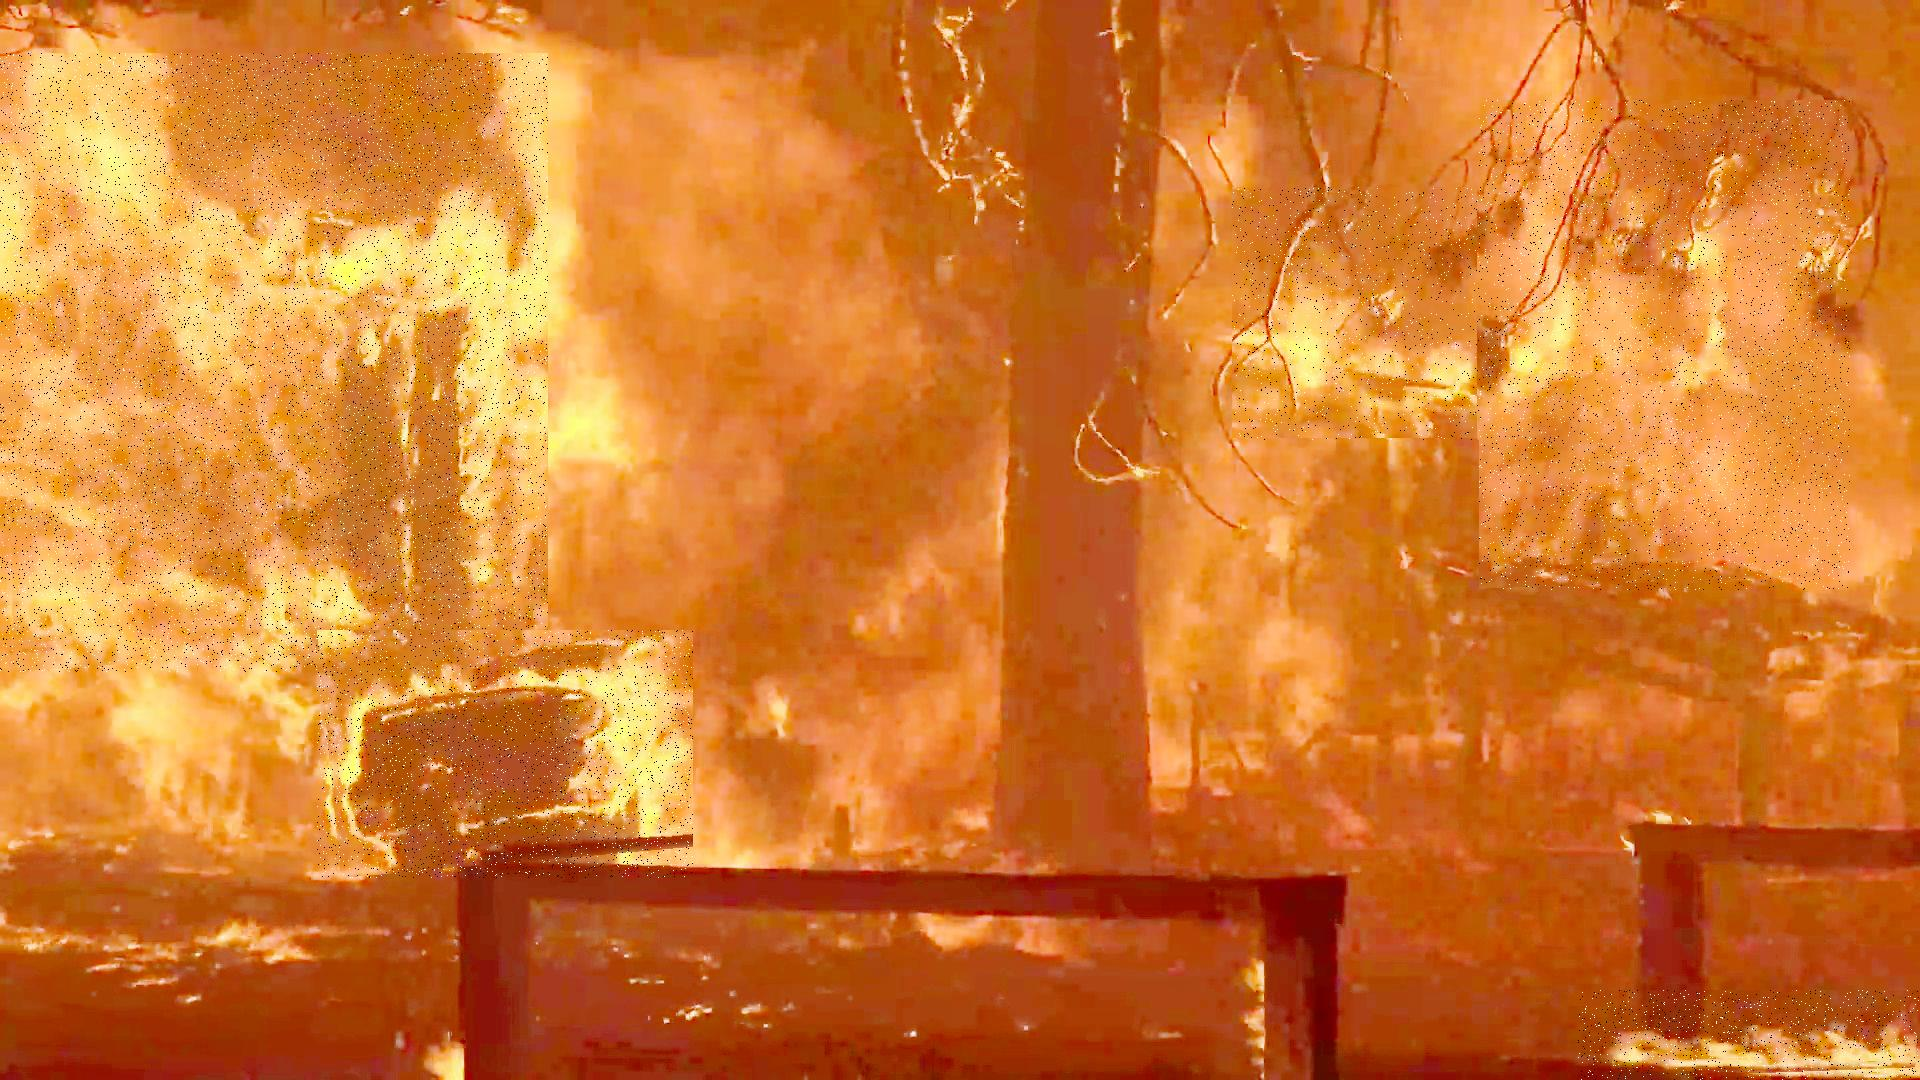fire: (0, 53, 549, 673), (1480, 100, 1850, 591), (1233, 187, 1671, 440), (316, 630, 694, 878), (1578, 990, 1920, 1080)
